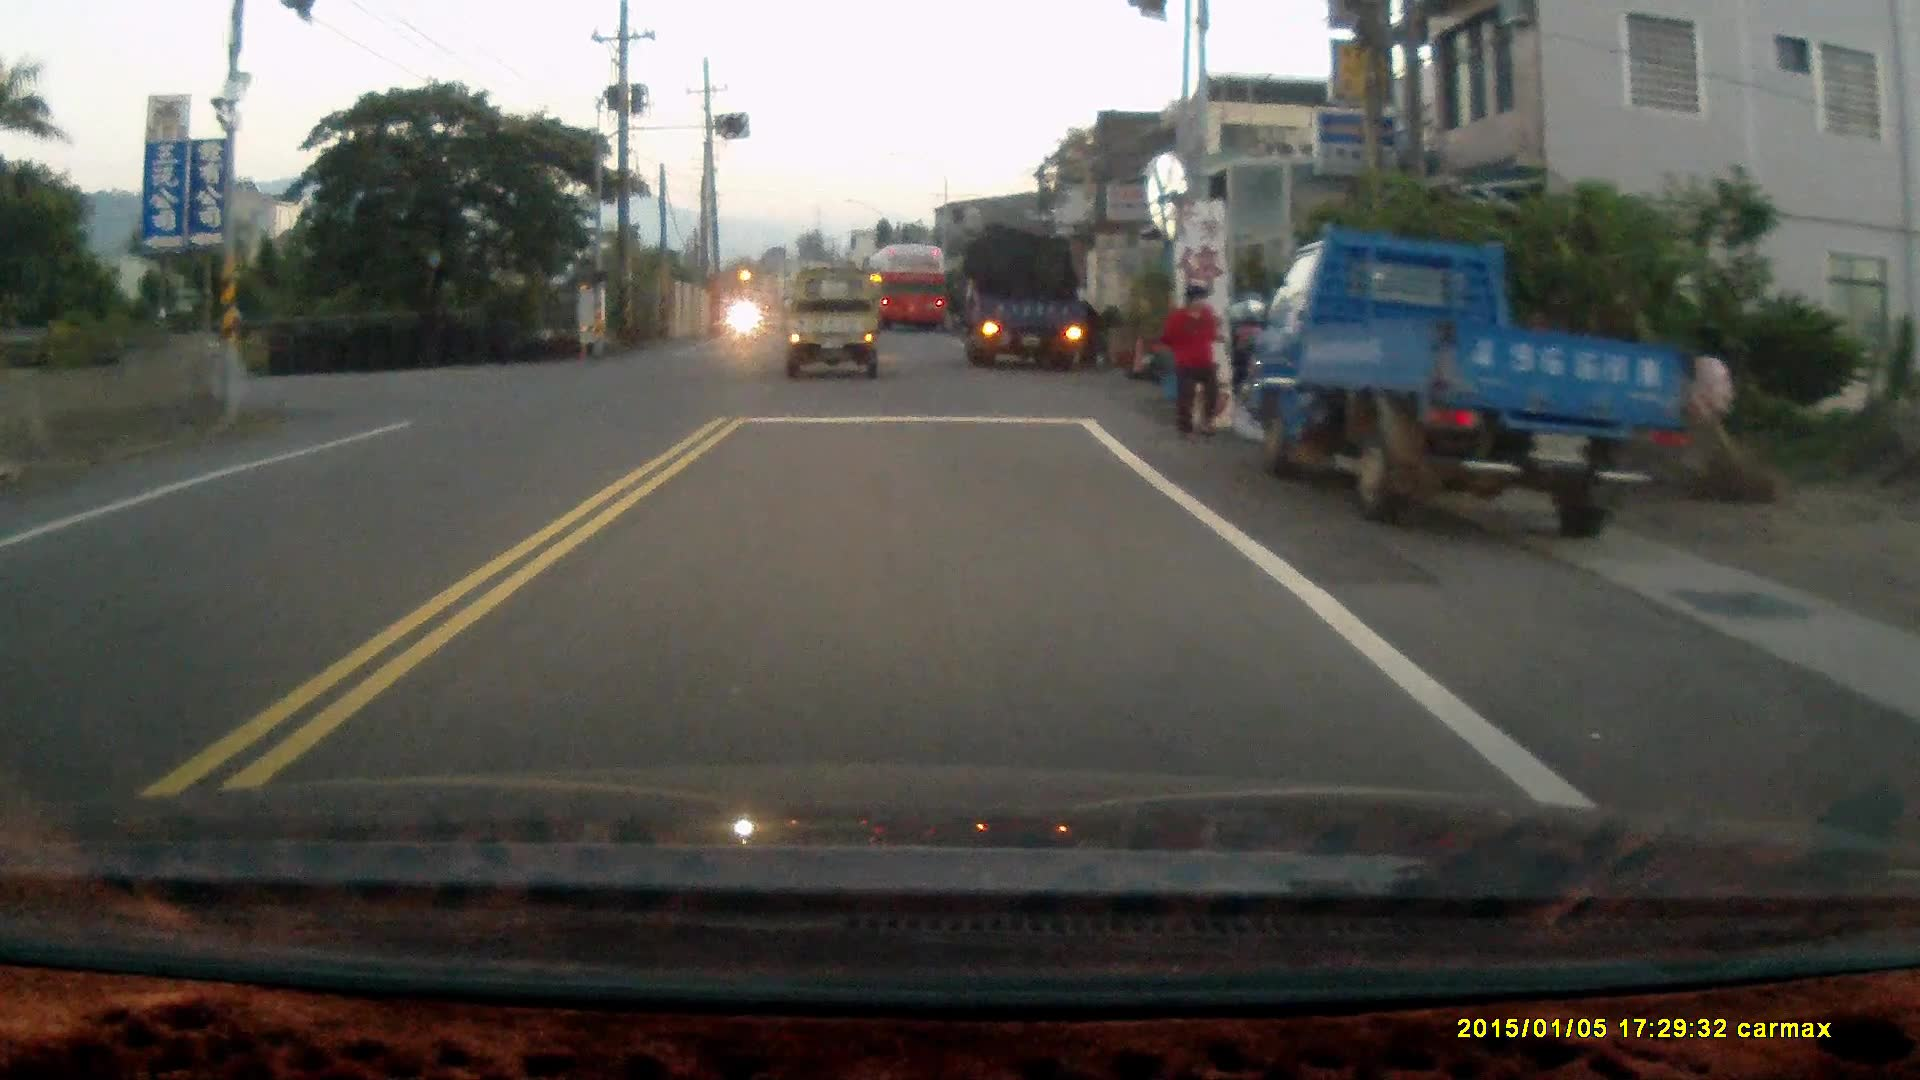pedestrian: (1158, 281, 1226, 445)
rider: (729, 281, 757, 340)
vehicle: (1250, 225, 1683, 534), (964, 224, 1102, 376), (789, 265, 887, 379), (865, 243, 955, 327)
